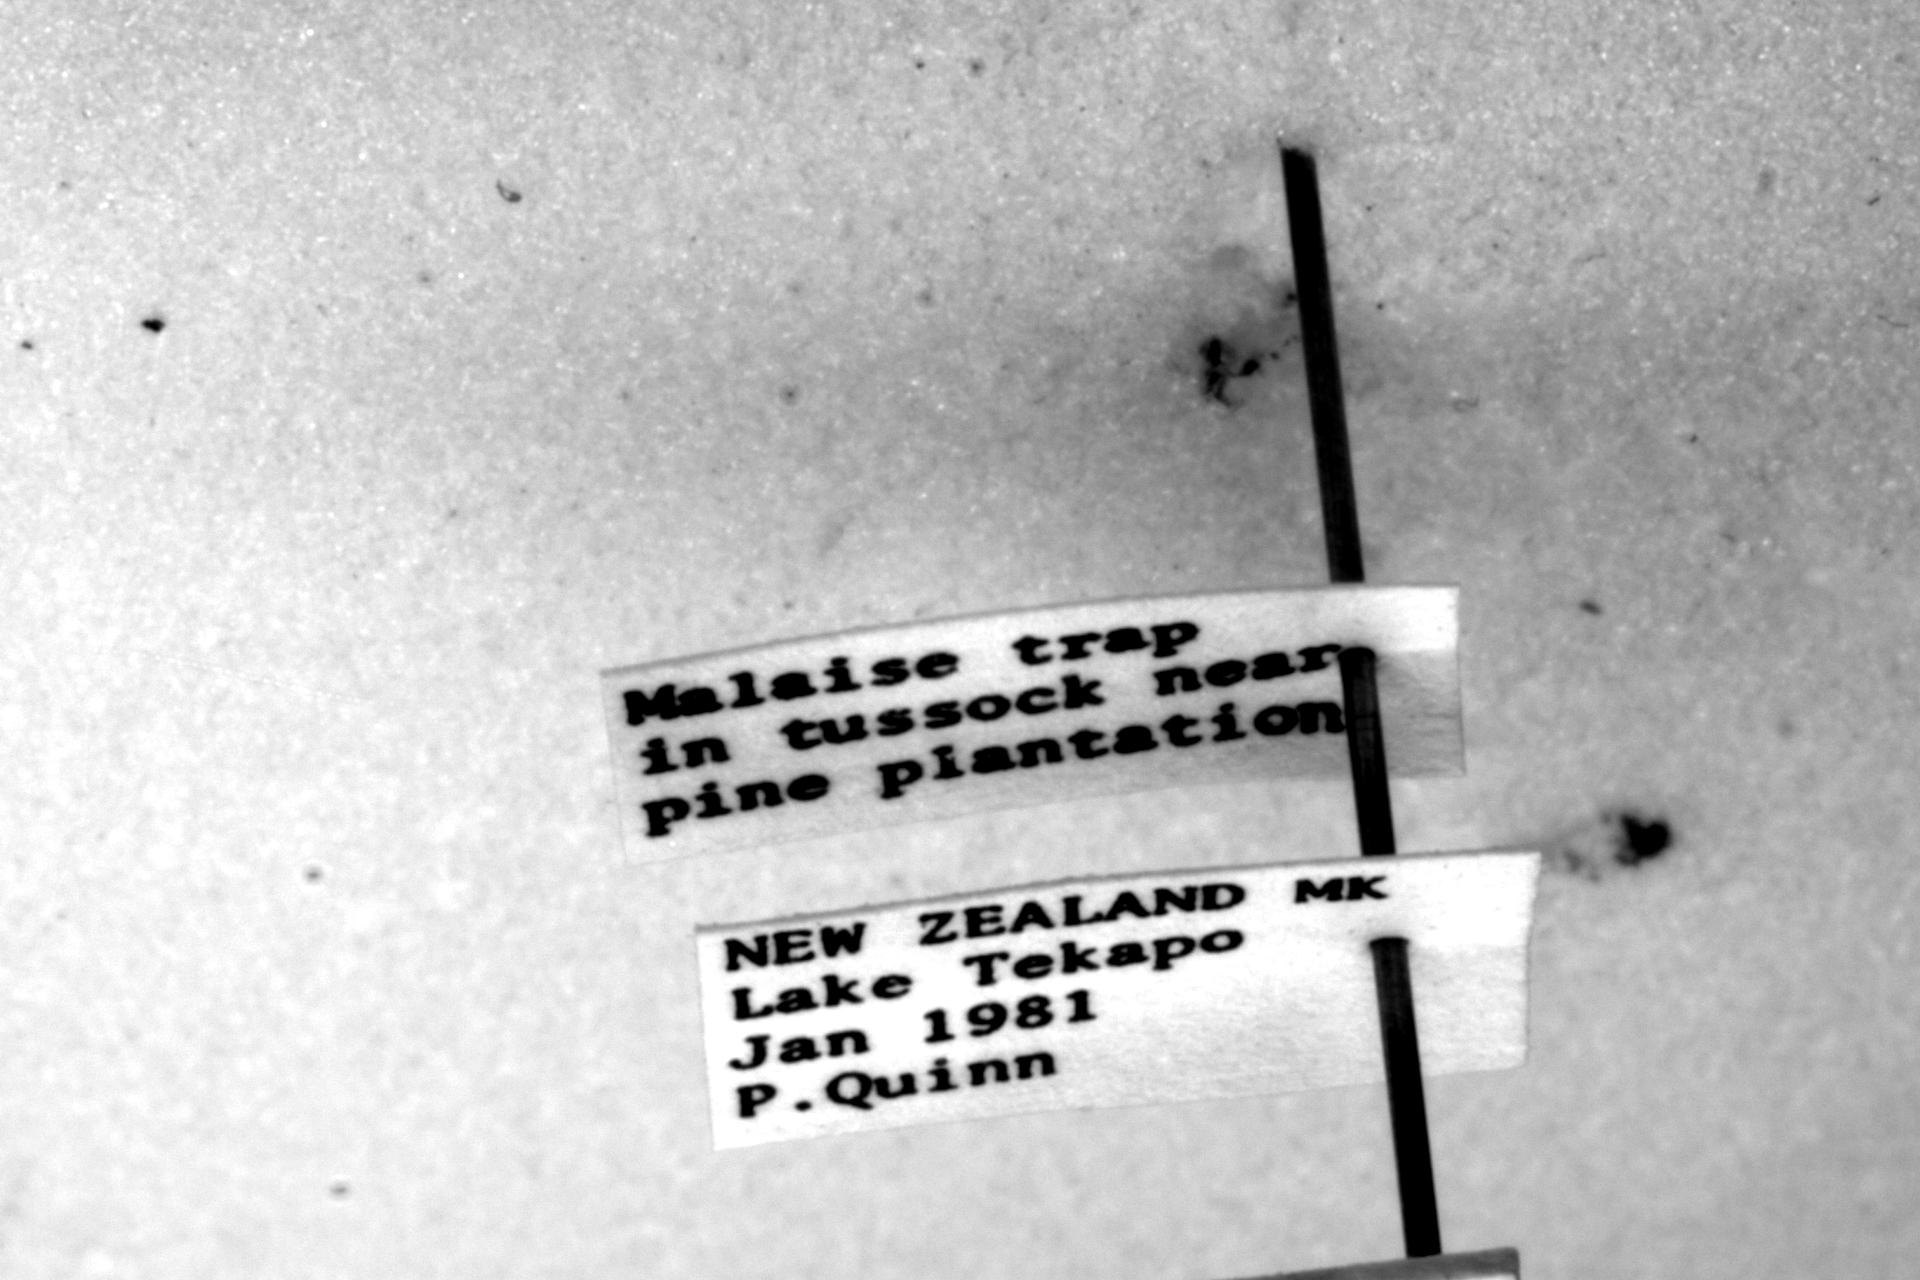typed_label: (697, 851, 1541, 1147), (604, 586, 1463, 863)
